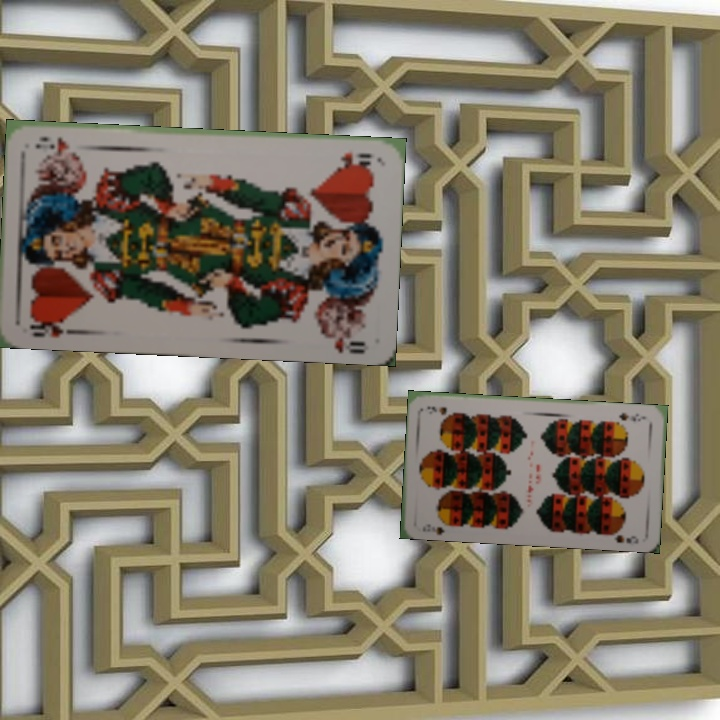HO: (26, 313, 70, 340), (331, 148, 375, 171)
S9: (427, 516, 456, 536), (615, 409, 648, 424)
